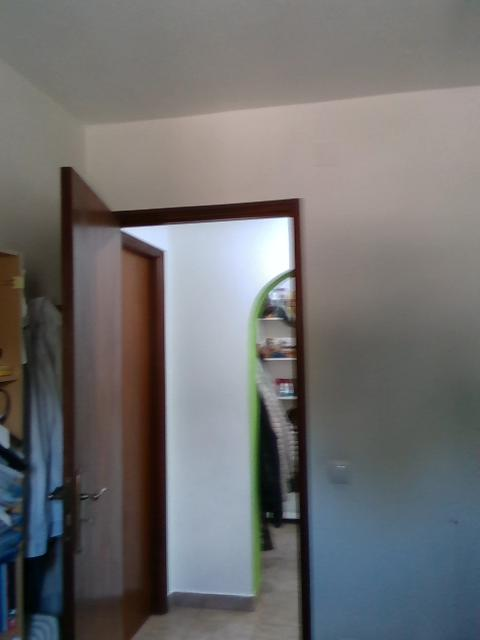open_door: (102, 197, 314, 638)
